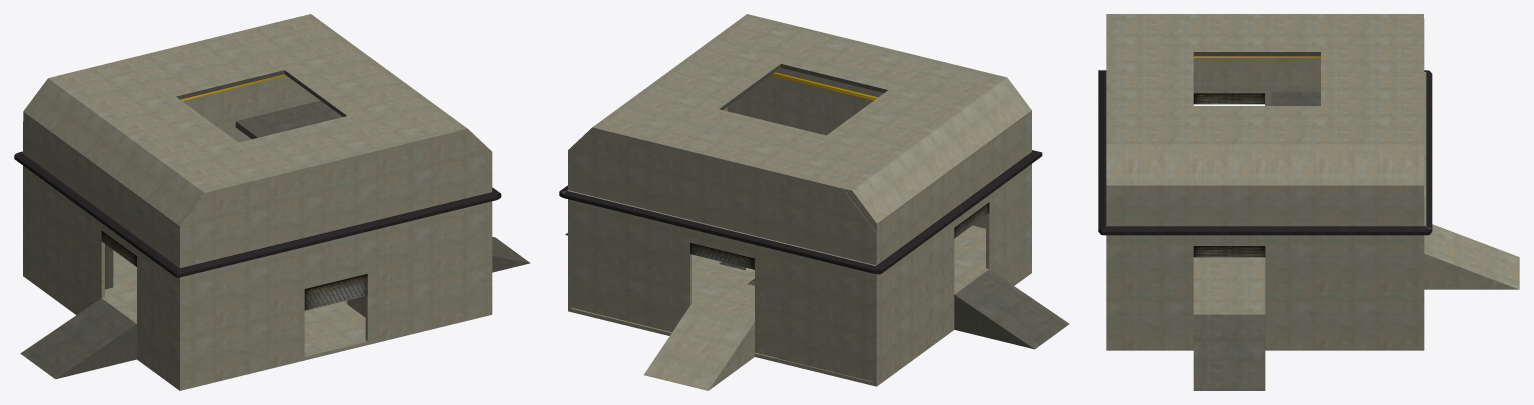
Rendered from small_indoor_blockbase.fbx.
3 views of the same model, side by side, from view 1: azimuth 30°, elevation 25°; view 2: azimuth 150°, elevation 25°; view 3: azimuth 270°, elevation 25° (orthographic). The views are drawn at different scales.
Parts seen in each view (by area): view 1: Object; view 2: Object; view 3: Object.
Boxes of the visible parts, x1,y1,x2,y2 form: Object: [14, 14, 530, 390]; Object: [559, 14, 1069, 390]; Object: [1098, 14, 1519, 390].
Bounding box in the file's own units: 13997 × 5400 × 10597.
